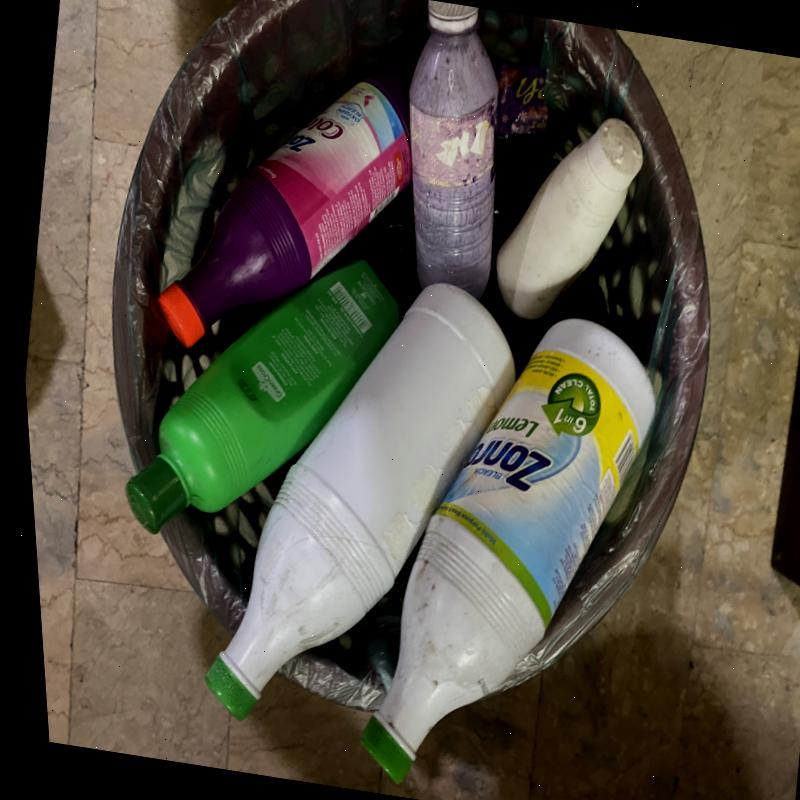plastic bottle: (359, 316, 653, 784), (203, 280, 514, 721), (123, 256, 398, 534), (156, 64, 409, 348), (491, 116, 642, 321), (407, 0, 497, 301)
